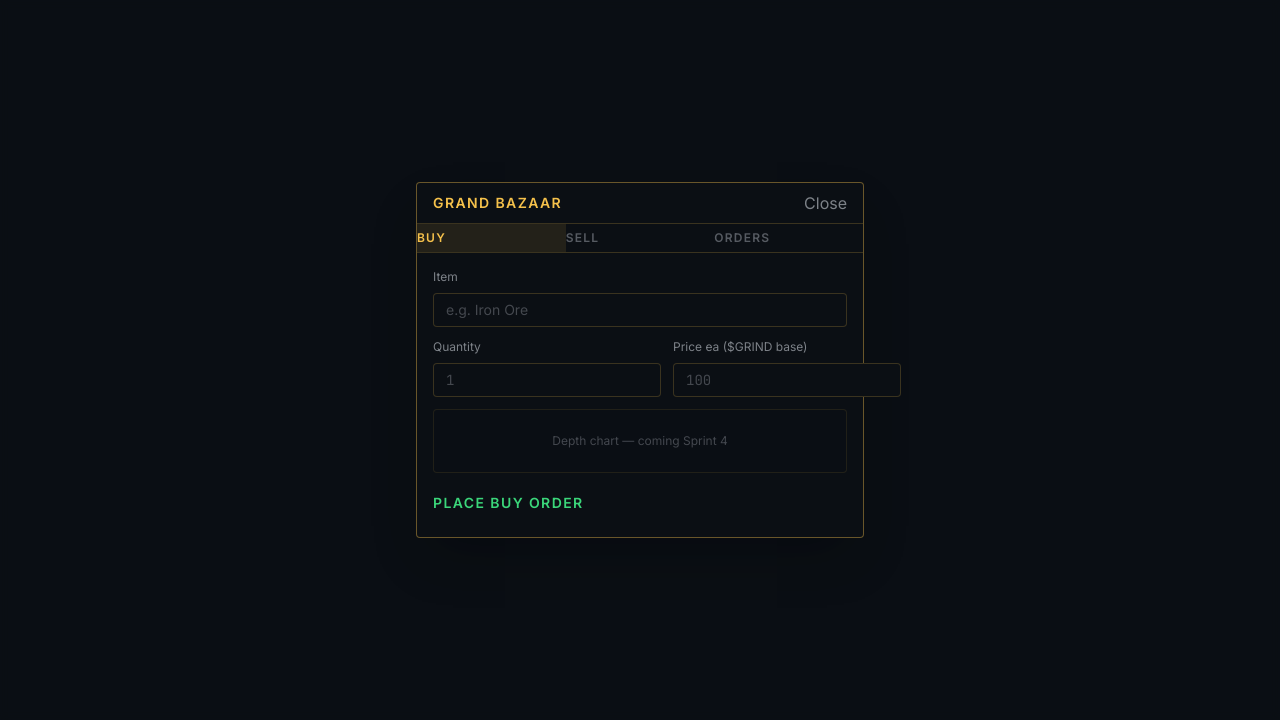
Test case: GrandBazaar › places a valid buy order and switches to orders tab
The image size is (1280, 720).
Type "Iron Ore" into the field with test id "ge-item-input" at coordinates (640, 310), box [433,293,847,327]
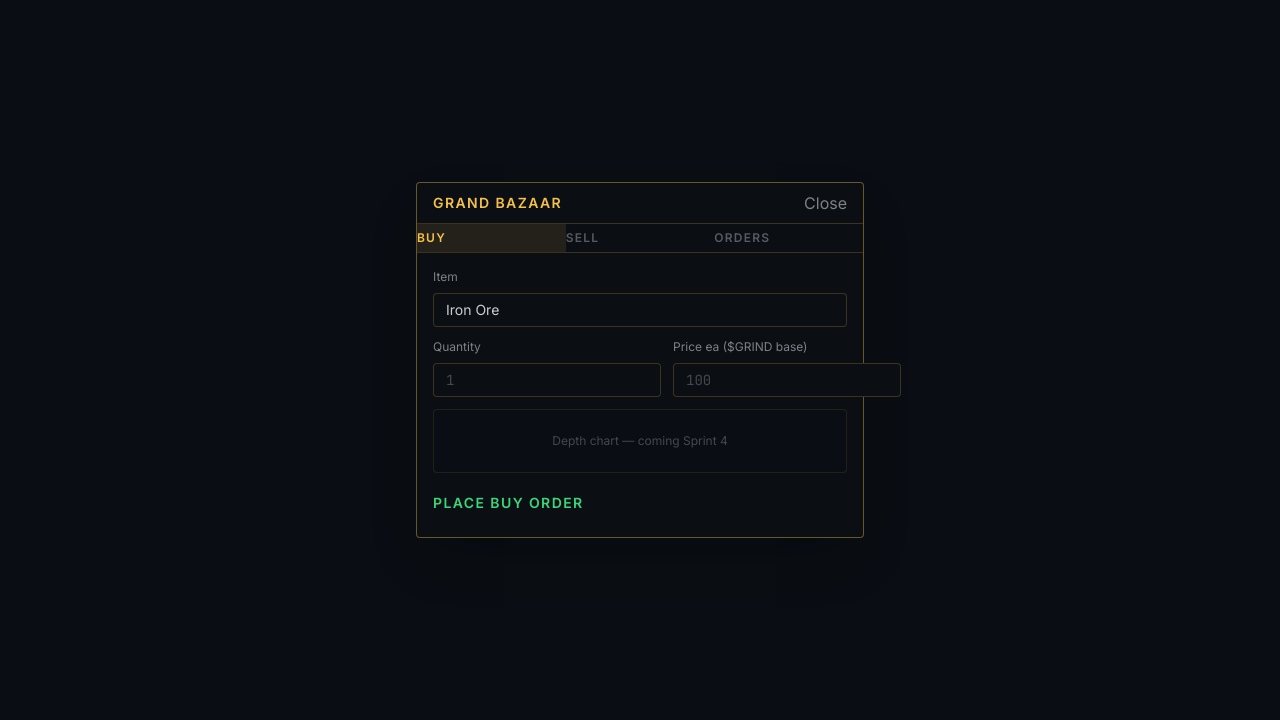
Type "10" into the number field with test id "ge-qty-input" at coordinates (547, 380), box [433,363,661,397]
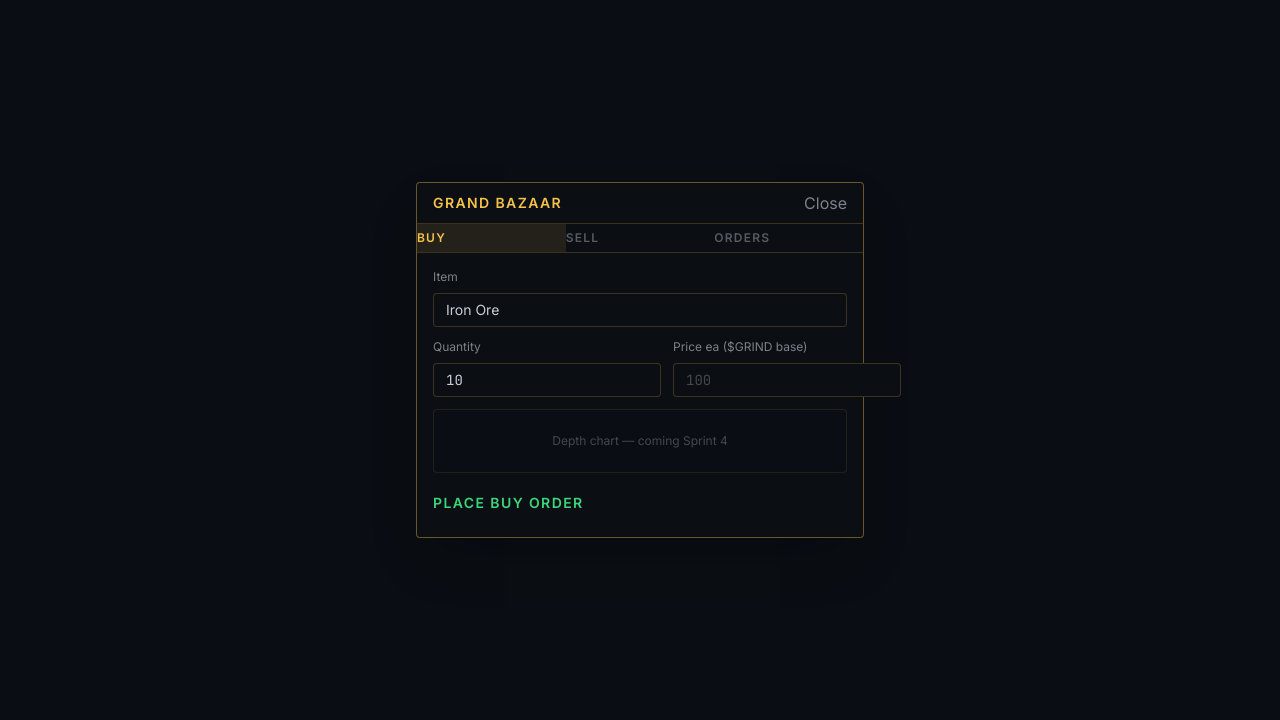
Type "500" into the number field with test id "ge-price-input" at coordinates (787, 380), box [673,363,901,397]
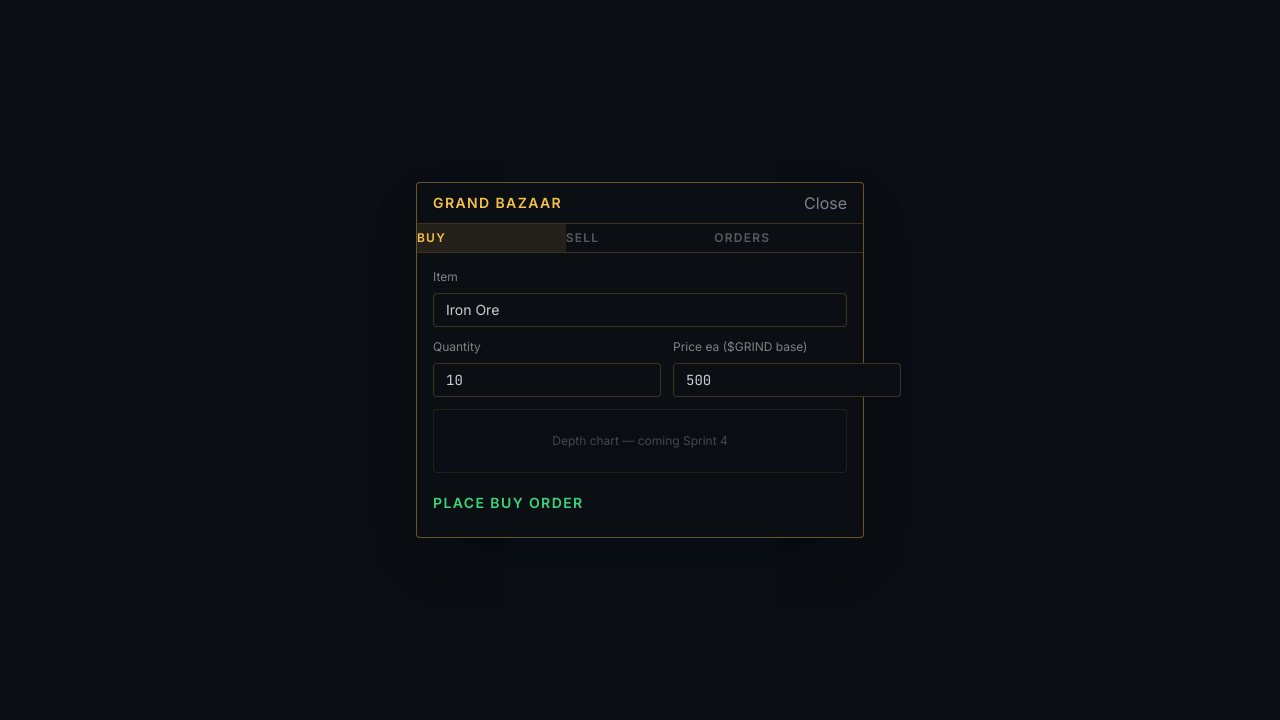
Click the button with test id "ge-submit" at coordinates (462, 502), box [433,485,847,521]
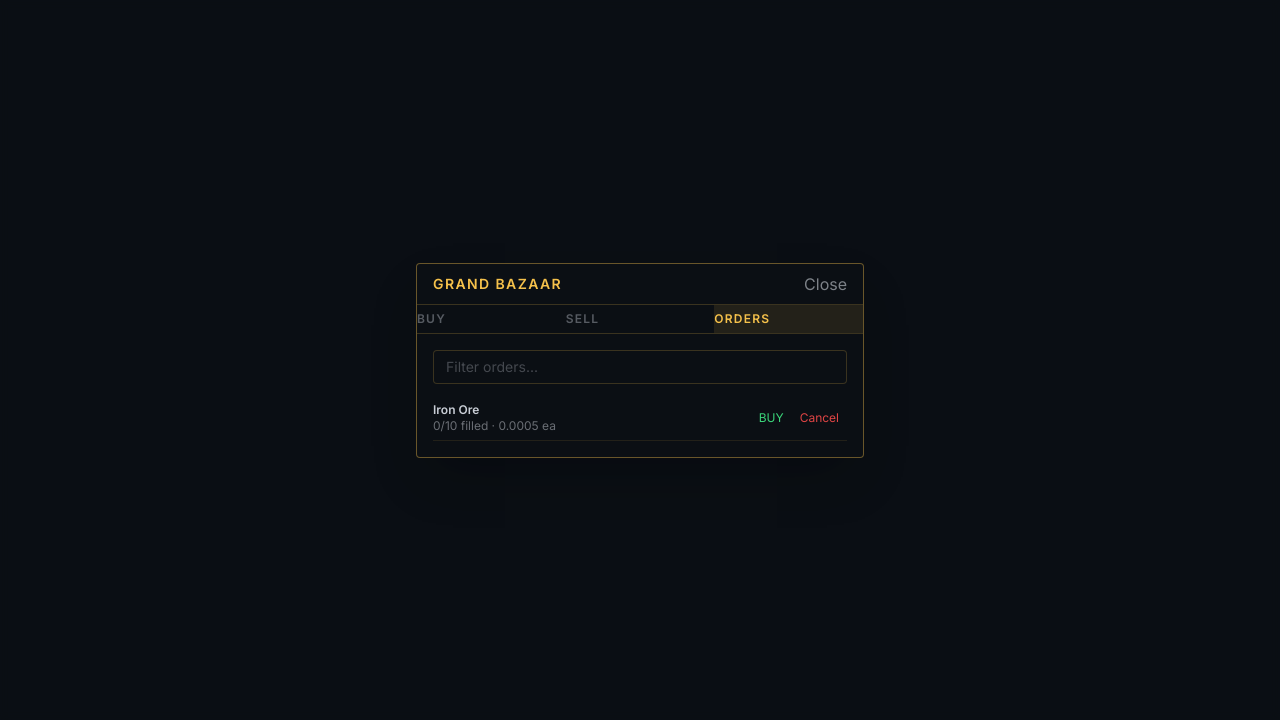
Expected: the text "Iron Ore" is shown, [433,402,479,416]
